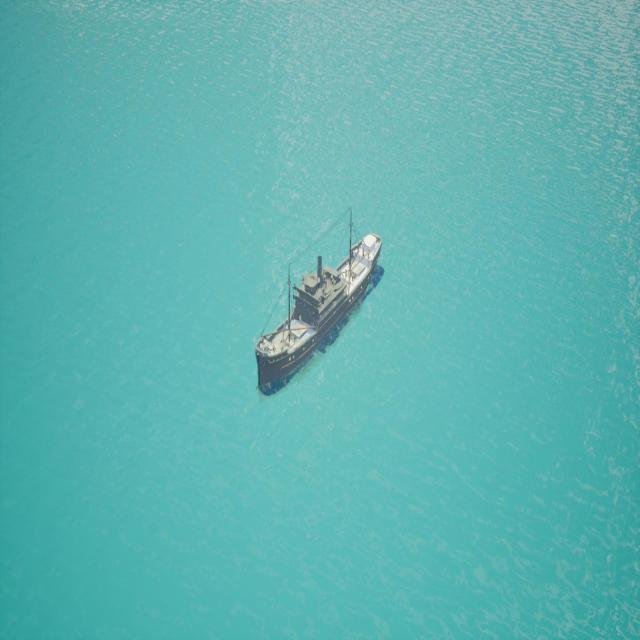fishing ship: (255, 234, 386, 395)
